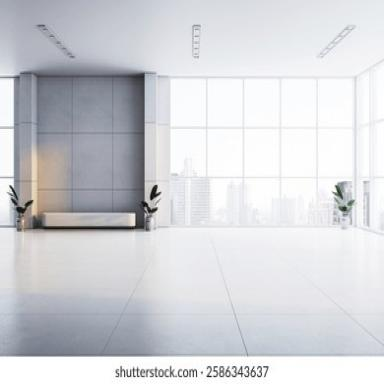glass_panel: (319, 129, 354, 225), (358, 66, 374, 226), (373, 62, 384, 230), (318, 80, 354, 126), (245, 78, 280, 125), (243, 183, 281, 226), (282, 78, 316, 125), (246, 129, 279, 177), (283, 129, 316, 177), (208, 79, 242, 125), (173, 180, 207, 226), (208, 131, 243, 175), (172, 79, 204, 126), (283, 180, 316, 225), (172, 130, 204, 176), (210, 181, 240, 228), (0, 180, 13, 226), (1, 80, 13, 127), (1, 130, 13, 175), (364, 180, 372, 228)
